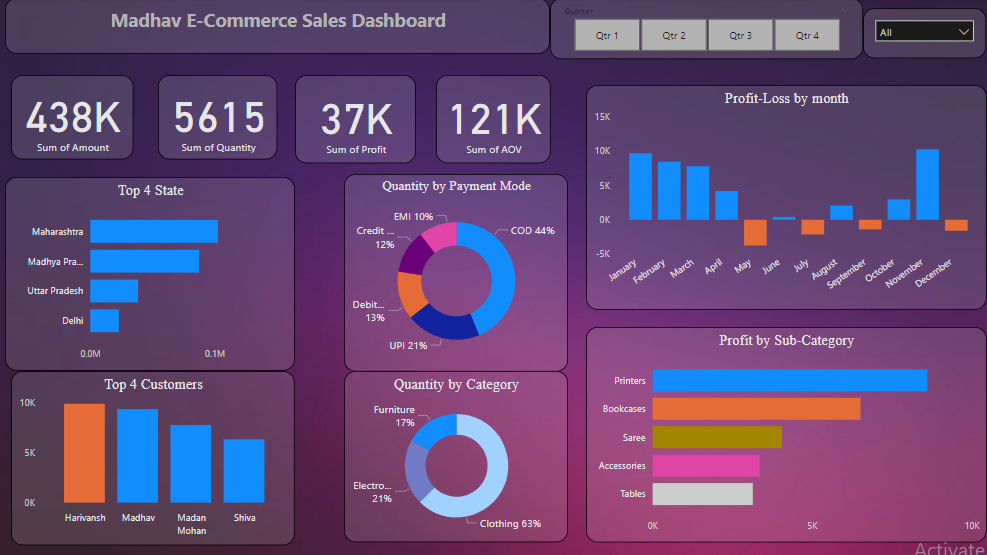

The page's visual inventory and layout, read from the dashboard file:
{"tool":"powerbi","page":{"name":"Page 1","canvas":[1280,720],"ordinal":0},"visuals":[{"type":"textbox","box":[10.1,0,702.9,72.1],"z":0},{"type":"columnChart","title":"Profit-Loss by month","fields":{"Y":["Details.Profit"],"Category":["Orders.Order Date.Variation.Date Hierarchy.Month"]},"box":[759.9,112.4,516.7,290.2],"z":1000},{"type":"barChart","title":"Profit by Sub-Category","fields":{"Category":["Details.Sub-Category"],"Y":["Details.Profit"]},"box":[759.9,424.4,516.7,278.5],"z":2000},{"type":"donutChart","title":"Quantity by Payment Mode","fields":{"Y":["Details.Quantity"],"Category":["Details.PaymentMode"]},"box":[447.9,226.5,288.5,255],"z":3000},{"type":"donutChart","title":"Quantity by Category","fields":{"Category":["Details.Category"],"Y":["Details.Quantity"]},"box":[447.9,481.5,288.5,221.4],"z":4000},{"type":"card","fields":{"Values":["Details.Amount"]},"box":[18.5,99,157.7,109],"z":5000},{"type":"card","fields":{"Values":["Details.Quantity"]},"box":[208,99,154.3,109],"z":6000},{"type":"card","fields":{"Values":["Details.Profit"]},"box":[384.2,99,156,114.1],"z":7000},{"type":"card","fields":{"Values":["Details.AOV"]},"box":[567,99,147.6,114.1],"z":8000},{"type":"barChart","title":"Top 4 State","fields":{"Category":["Orders.State"],"Y":["Details.Amount"]},"box":[10.1,231.5,374.1,250],"z":9000},{"type":"columnChart","title":"Top 4 Customers","fields":{"Category":["Orders.CustomerName"],"Y":["Details.Amount"]},"box":[18.5,481.5,365.7,224.8],"z":10000},{"type":"slicer","fields":{"Values":["Orders.Order Date.Variation.Date Hierarchy.Quarter"]},"box":[713,0,404.3,78.8],"z":11000},{"type":"slicer","fields":{"Values":["Orders.State"]},"box":[1117.3,13.4,159.4,65.4],"z":12000}]}

Visuals, with their boxes in screenshot pixels (x1, y1, x2, y2), scaled from the page's 1280x720 canvas onto the 987x555 screenshot:
textbox: (8, 0, 550, 56)
"Profit-Loss by month" columnChart: (586, 87, 984, 310)
"Profit by Sub-Category" barChart: (586, 327, 984, 542)
"Quantity by Payment Mode" donutChart: (345, 175, 568, 371)
"Quantity by Category" donutChart: (345, 371, 568, 542)
card - Details.Amount: (14, 76, 136, 160)
card - Details.Quantity: (160, 76, 279, 160)
card - Details.Profit: (296, 76, 417, 164)
card - Details.AOV: (437, 76, 551, 164)
"Top 4 State" barChart: (8, 178, 296, 371)
"Top 4 Customers" columnChart: (14, 371, 296, 544)
slicer - Orders.Order Date.Variation.Date Hierarchy.Quarter: (550, 0, 862, 61)
slicer - Orders.State: (862, 10, 984, 61)
